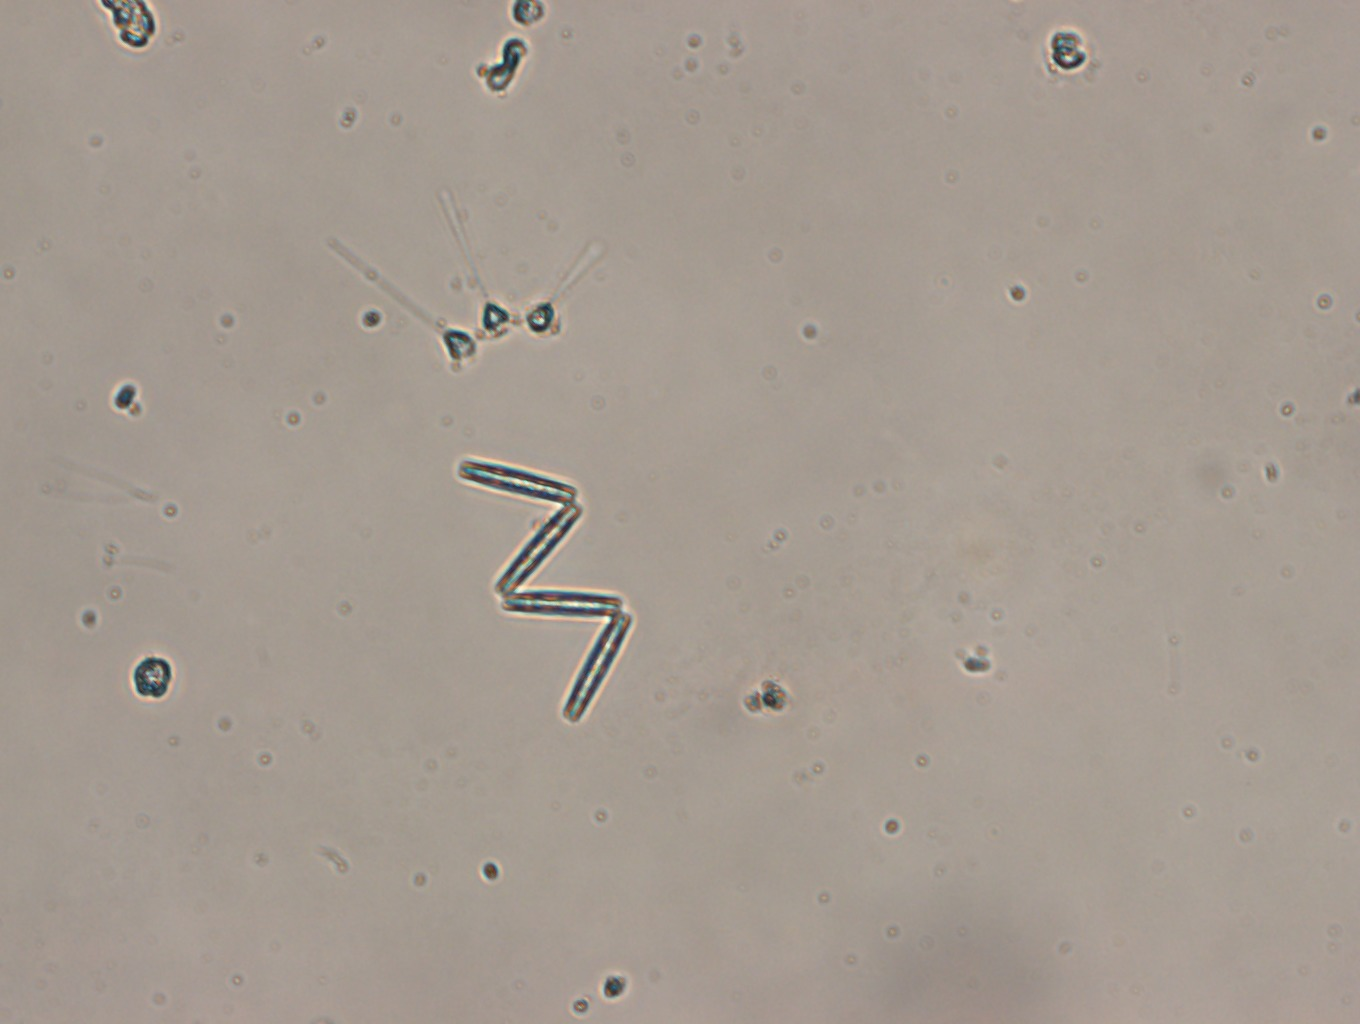thalassionema nitzschioides: (455, 456, 635, 725)
